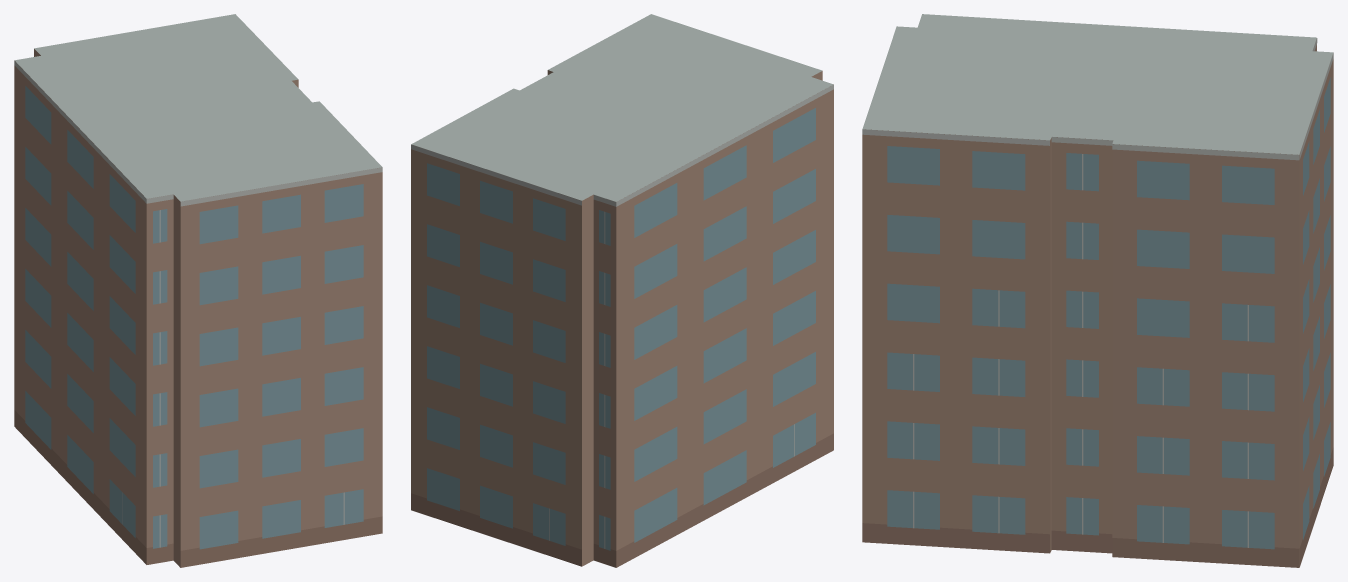
Rendered from survey-upis-32542265.glb.
3 views of the same model, side by side, from view 1: azimuth 30°, elevation 25°; view 2: azimuth 150°, elevation 25°; view 3: azimuth 270°, elevation 25° (orthographic). The views are drawn at different scales.
Parts seen in each view (by area): view 1: survey-upis-32542265.tmp; view 2: survey-upis-32542265.tmp; view 3: survey-upis-32542265.tmp.
Boxes of the visible parts, left/top/right/bottom form: survey-upis-32542265.tmp: left=14, top=14, right=382, bottom=567; survey-upis-32542265.tmp: left=411, top=14, right=833, bottom=567; survey-upis-32542265.tmp: left=862, top=14, right=1333, bottom=567.
Bounding box in the file's own units: 13.39 × 18.3 × 18.93.
